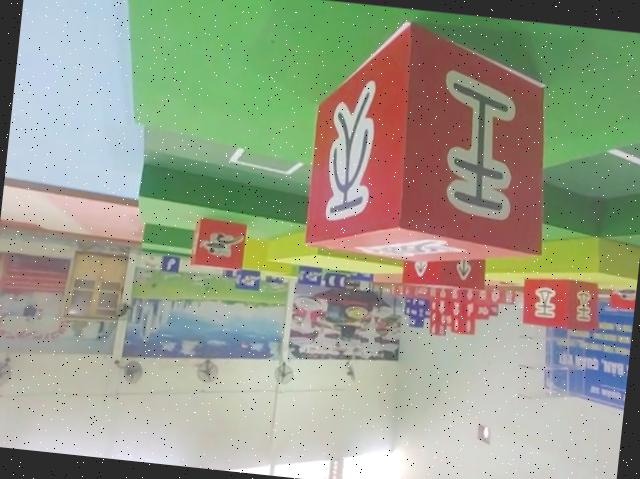R1: (188, 214, 250, 272)
R2 Fake: (300, 10, 567, 278)
R2 Real: (518, 272, 605, 336)
